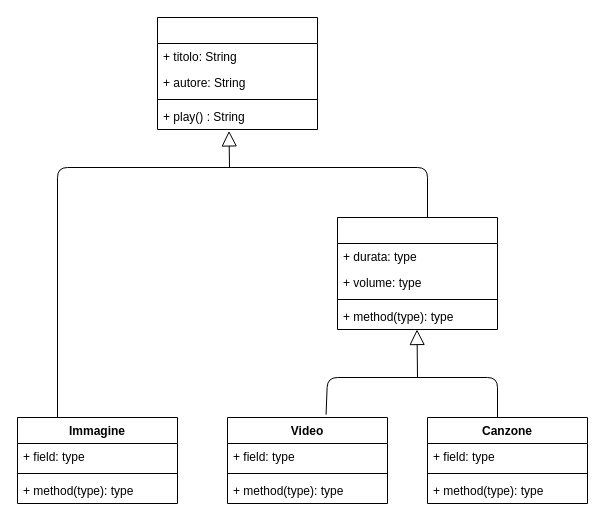
Image size: 605x524. Some labels were removed from this diagram. Here are the shapes that lost their labels. From the top down, the box of each, then its label:
(156, 16, 318, 130): File
(336, 216, 498, 330): Riproducibile
